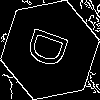D: (25, 25, 78, 74)
